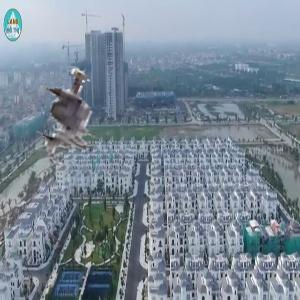drone: (7, 51, 124, 168)
